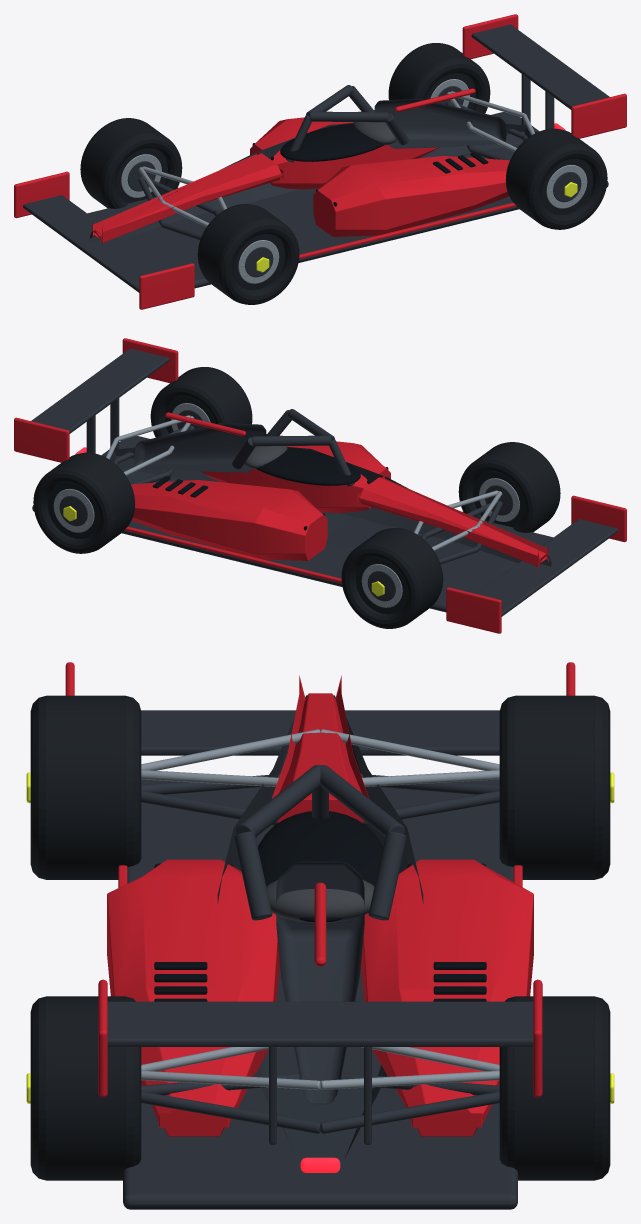
The model's file is car-jHiPK1pO.glb.
The picture shows the model from 3 angles, top to bottom: view 1: azimuth 30°, elevation 25°; view 2: azimuth 150°, elevation 25°; view 3: azimuth 270°, elevation 25°; orthographic projection. The views are drawn at different scales.
Visible parts, largest first — view 1: static_Vermilion_lacquer, static_Satin_graphite_carbon, wheel_FL_Race_slick_rubber, wheel_RL_Race_slick_rubber, wheel_FR_Race_slick_rubber, wheel_RR_Race_slick_rubber, static_Deep_cockpit_black, static_Brushed_titanium, wheel_RL_Brushed_titanium, wheel_FL_Brushed_titanium, wheel_FR_Brushed_titanium, static_Glove_charcoal (+3 smaller); view 2: static_Vermilion_lacquer, static_Satin_graphite_carbon, wheel_FR_Race_slick_rubber, wheel_RR_Race_slick_rubber, wheel_FL_Race_slick_rubber, wheel_RL_Race_slick_rubber, static_Deep_cockpit_black, static_Brushed_titanium, wheel_RR_Brushed_titanium, wheel_FR_Brushed_titanium, wheel_FL_Brushed_titanium, static_Glove_charcoal (+3 smaller); view 3: static_Satin_graphite_carbon, static_Vermilion_lacquer, wheel_FL_Race_slick_rubber, wheel_FR_Race_slick_rubber, wheel_RL_Race_slick_rubber, wheel_RR_Race_slick_rubber, static_Brushed_titanium, static_Deep_cockpit_black, static_Glove_charcoal.
Boxes of the visible parts, x1,y1,x2,y2 form: static_Vermilion_lacquer: [14, 14, 626, 309]; static_Satin_graphite_carbon: [23, 24, 609, 292]; wheel_FL_Race_slick_rubber: [197, 204, 299, 304]; wheel_RL_Race_slick_rubber: [505, 128, 607, 229]; wheel_FR_Race_slick_rubber: [80, 118, 182, 208]; wheel_RR_Race_slick_rubber: [388, 43, 490, 113]; static_Deep_cockpit_black: [252, 123, 488, 206]; static_Brushed_titanium: [138, 91, 534, 226]; wheel_RL_Brushed_titanium: [546, 165, 587, 208]; wheel_FL_Brushed_titanium: [238, 240, 279, 283]; wheel_FR_Brushed_titanium: [121, 154, 161, 197]; static_Glove_charcoal: [353, 122, 396, 145]; static_Vermilion_lacquer: [14, 338, 626, 633]; static_Satin_graphite_carbon: [31, 348, 617, 616]; wheel_FR_Race_slick_rubber: [341, 528, 443, 628]; wheel_RR_Race_slick_rubber: [33, 452, 135, 553]; wheel_FL_Race_slick_rubber: [458, 442, 560, 532]; wheel_RL_Race_slick_rubber: [150, 367, 252, 437]; static_Deep_cockpit_black: [152, 447, 388, 530]; static_Brushed_titanium: [106, 415, 502, 550]; wheel_RR_Brushed_titanium: [53, 489, 94, 532]; wheel_FR_Brushed_titanium: [361, 564, 402, 607]; wheel_FL_Brushed_titanium: [479, 478, 519, 521]; static_Glove_charcoal: [244, 446, 287, 469]; static_Satin_graphite_carbon: [107, 695, 533, 1209]; static_Vermilion_lacquer: [65, 662, 575, 1136]; wheel_FL_Race_slick_rubber: [30, 695, 141, 879]; wheel_FR_Race_slick_rubber: [499, 695, 610, 879]; wheel_RL_Race_slick_rubber: [30, 996, 141, 1180]; wheel_RR_Race_slick_rubber: [499, 996, 610, 1180]; static_Brushed_titanium: [141, 729, 499, 1089]; static_Deep_cockpit_black: [154, 811, 486, 1001]; static_Glove_charcoal: [266, 880, 374, 922].
Bounding box in the file's own units: 4.34 × 0.9379 × 2.23.
